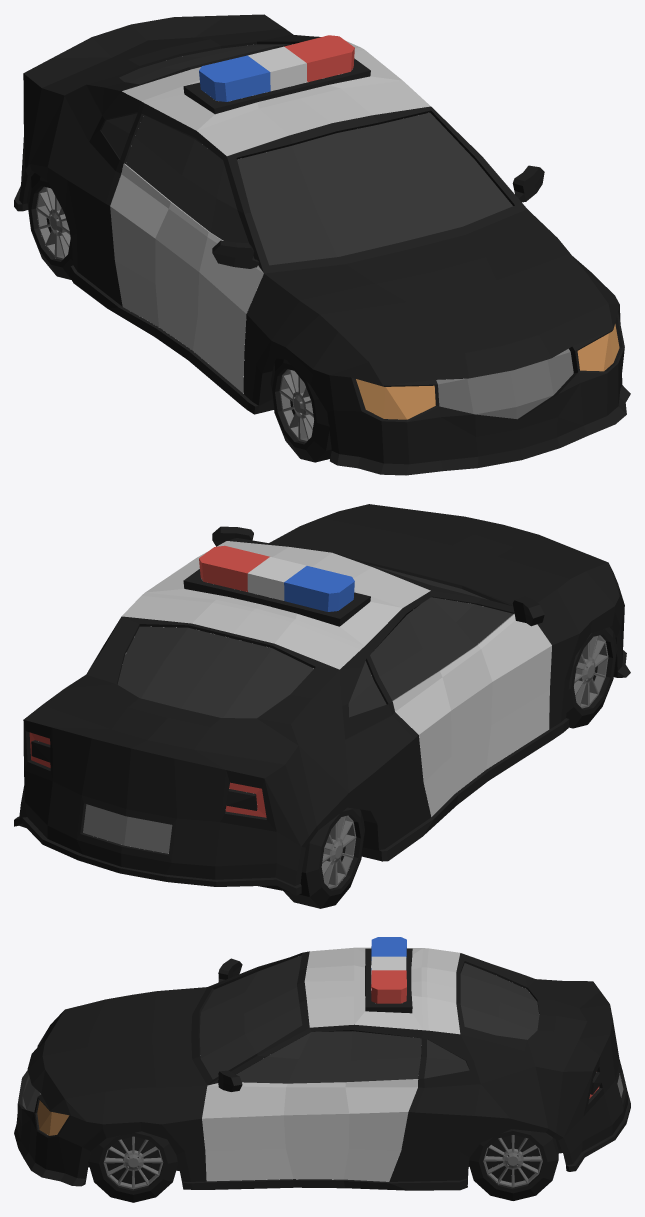
Rendered from police_car.glb.
3 renders of one model, top to bottom at view 1: azimuth 30°, elevation 25°; view 2: azimuth 150°, elevation 25°; view 3: azimuth 270°, elevation 25°, orthographic. The views are drawn at different scales.
Visible parts, largest first — view 1: Cop_Cube.001, Cop_FrontRightWheel_Cylinder.012, Cop_BackWheels_Cylinder.001; view 2: Cop_Cube.001, Cop_BackWheels_Cylinder.001, Cop_FrontRightWheel_Cylinder.012; view 3: Cop_Cube.001, Cop_BackWheels_Cylinder.001, Cop_FrontLeftWheel_Cylinder.011.
Boxes of the visible parts, x1=… form: Cop_Cube.001: x1=14, y1=14, x2=630, y2=475; Cop_FrontRightWheel_Cylinder.012: x1=270, y1=358, x2=331, y2=462; Cop_BackWheels_Cylinder.001: x1=27, y1=173, x2=73, y2=279; Cop_Cube.001: x1=14, y1=504, x2=630, y2=895; Cop_BackWheels_Cylinder.001: x1=283, y1=807, x2=364, y2=908; Cop_FrontRightWheel_Cylinder.012: x1=566, y1=627, x2=617, y2=728; Cop_Cube.001: x1=14, y1=937, x2=630, y2=1190; Cop_BackWheels_Cylinder.001: x1=469, y1=1129, x2=558, y2=1200; Cop_FrontLeftWheel_Cylinder.011: x1=88, y1=1131, x2=178, y2=1202.
Bounding box in the file's own units: 1.78 × 1.24 × 3.73.
